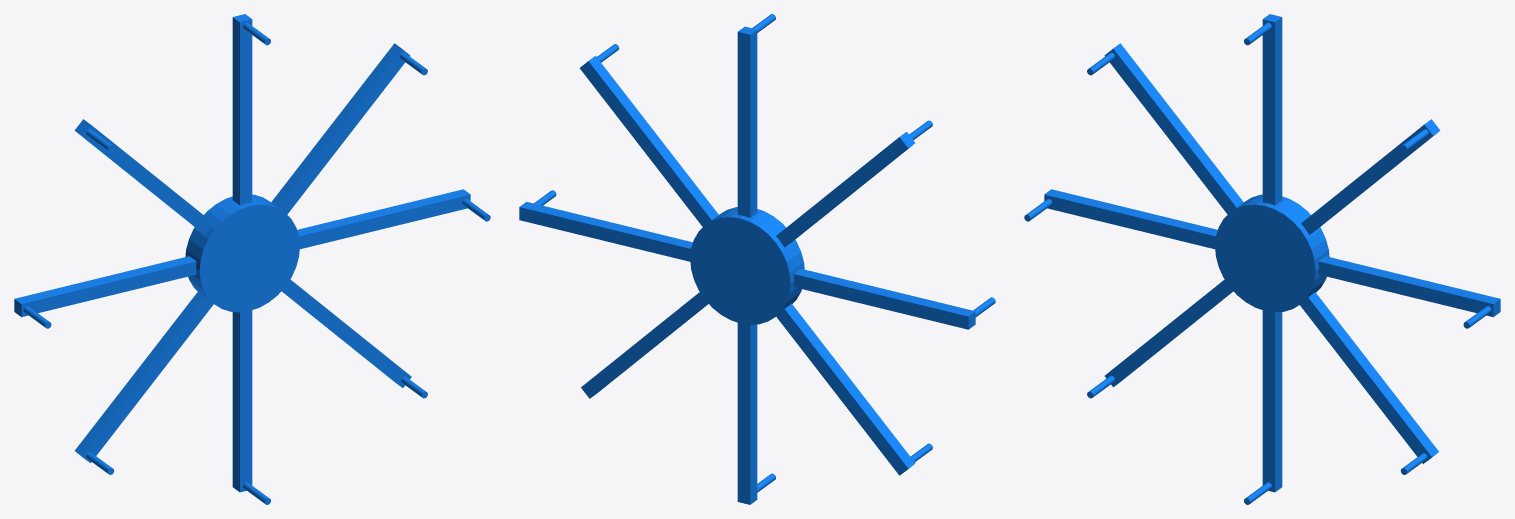
File: moving.obj
The picture shows the model from 3 angles, left to right: view 1: azimuth 30°, elevation 25°; view 2: azimuth 150°, elevation 25°; view 3: azimuth 330°, elevation 25°; orthographic projection.
Visible parts, largest first — view 1: circle, bottom_left_stick, top_right_stick, top_stick, bottom_stick, left_stick, right_stick, top_left_stick, bottom_right_stick; view 2: circle, bottom_left_stick, top_right_stick, top_stick, bottom_stick, left_stick, right_stick, top_left_stick, bottom_right_stick; view 3: circle, bottom_right_stick, top_left_stick, top_stick, bottom_stick, right_stick, left_stick, top_right_stick, bottom_left_stick.
Boxes of the visible parts, x1,y1,x2,y2 form: circle: (185,194,299,312); bottom_left_stick: (74,291,213,462); top_right_stick: (271,43,410,214); top_stick: (232,14,252,205); bottom_stick: (232,310,252,492); left_stick: (14,256,196,317); right_stick: (297,189,470,249); top_left_stick: (74,119,213,234); bottom_right_stick: (281,279,411,387); circle: (690,207,804,324); bottom_left_stick: (776,304,915,475); top_right_stick: (579,56,718,226); top_stick: (737,26,757,217); bottom_stick: (737,323,757,504); left_stick: (793,268,975,329); right_stick: (519,201,692,261); top_left_stick: (776,131,915,247); bottom_right_stick: (581,292,708,398); circle: (1215,194,1329,312); bottom_right_stick: (1300,292,1438,463); top_left_stick: (1104,43,1243,214); top_stick: (1262,14,1282,205); bottom_stick: (1262,310,1282,492); right_stick: (1318,256,1500,317); left_stick: (1044,189,1217,249); top_right_stick: (1301,119,1440,234); bottom_left_stick: (1104,279,1233,387).
Size of the model in its own units: 17.9 by 17.9 by 2.25.
Materials: 1 (1 with a texture image).
